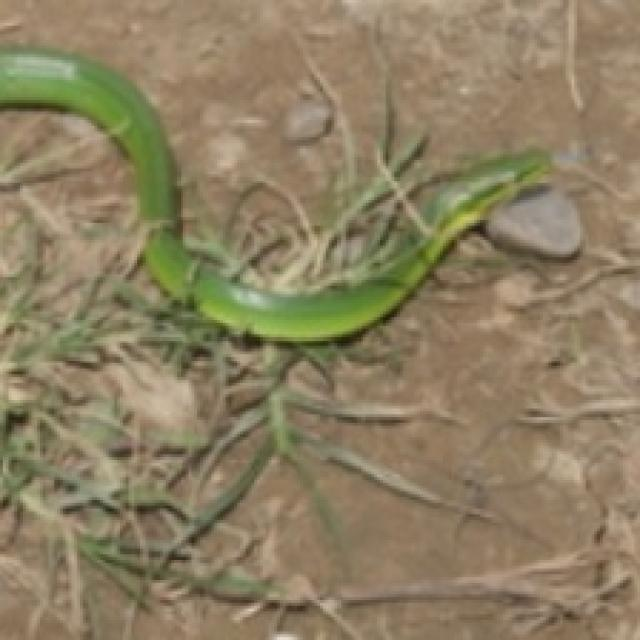red-tailed green ratsnake: (0, 49, 546, 340)
